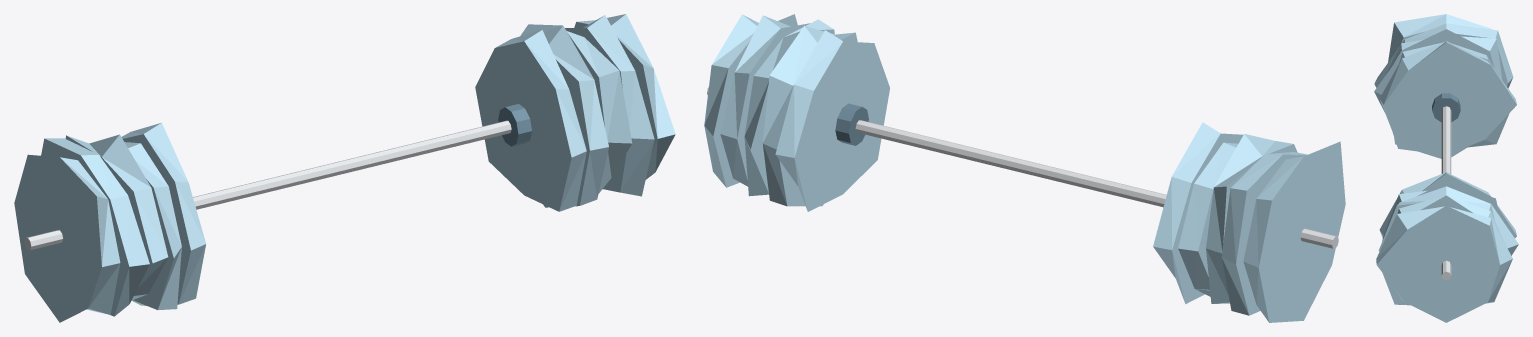
The model's file is Frost_Barbell.fbx.
3 renders of one model, left to right at view 1: azimuth 30°, elevation 25°; view 2: azimuth 150°, elevation 25°; view 3: azimuth 270°, elevation 25°, orthographic. The views are drawn at different scales.
Parts seen in each view (by area): view 1: Frost_Plates, Frost_Bar, Frost_Collars; view 2: Frost_Plates, Frost_Bar, Frost_Collars; view 3: Frost_Plates, Frost_Bar, Frost_Collars.
Part boxes in pixels (x1,y1,x2,y2): Frost_Plates: (14, 14, 675, 322); Frost_Bar: (24, 87, 660, 250); Frost_Collars: (498, 104, 531, 146); Frost_Plates: (704, 14, 1345, 322); Frost_Bar: (707, 86, 1338, 248); Frost_Collars: (835, 103, 868, 145); Frost_Plates: (1374, 14, 1518, 322); Frost_Bar: (1441, 106, 1451, 280); Frost_Collars: (1432, 93, 1460, 122).
Bounding box in the file's own units: 7.75 × 2.1 × 2.19.
